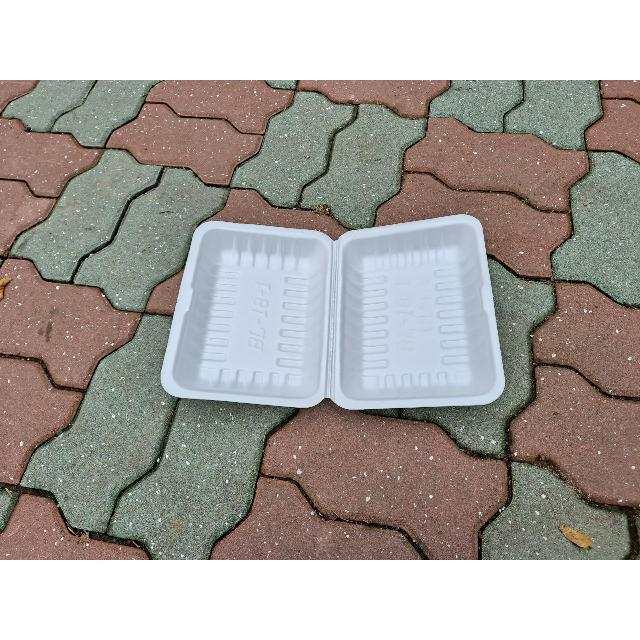Plastico descartable: (160, 214, 506, 411)
